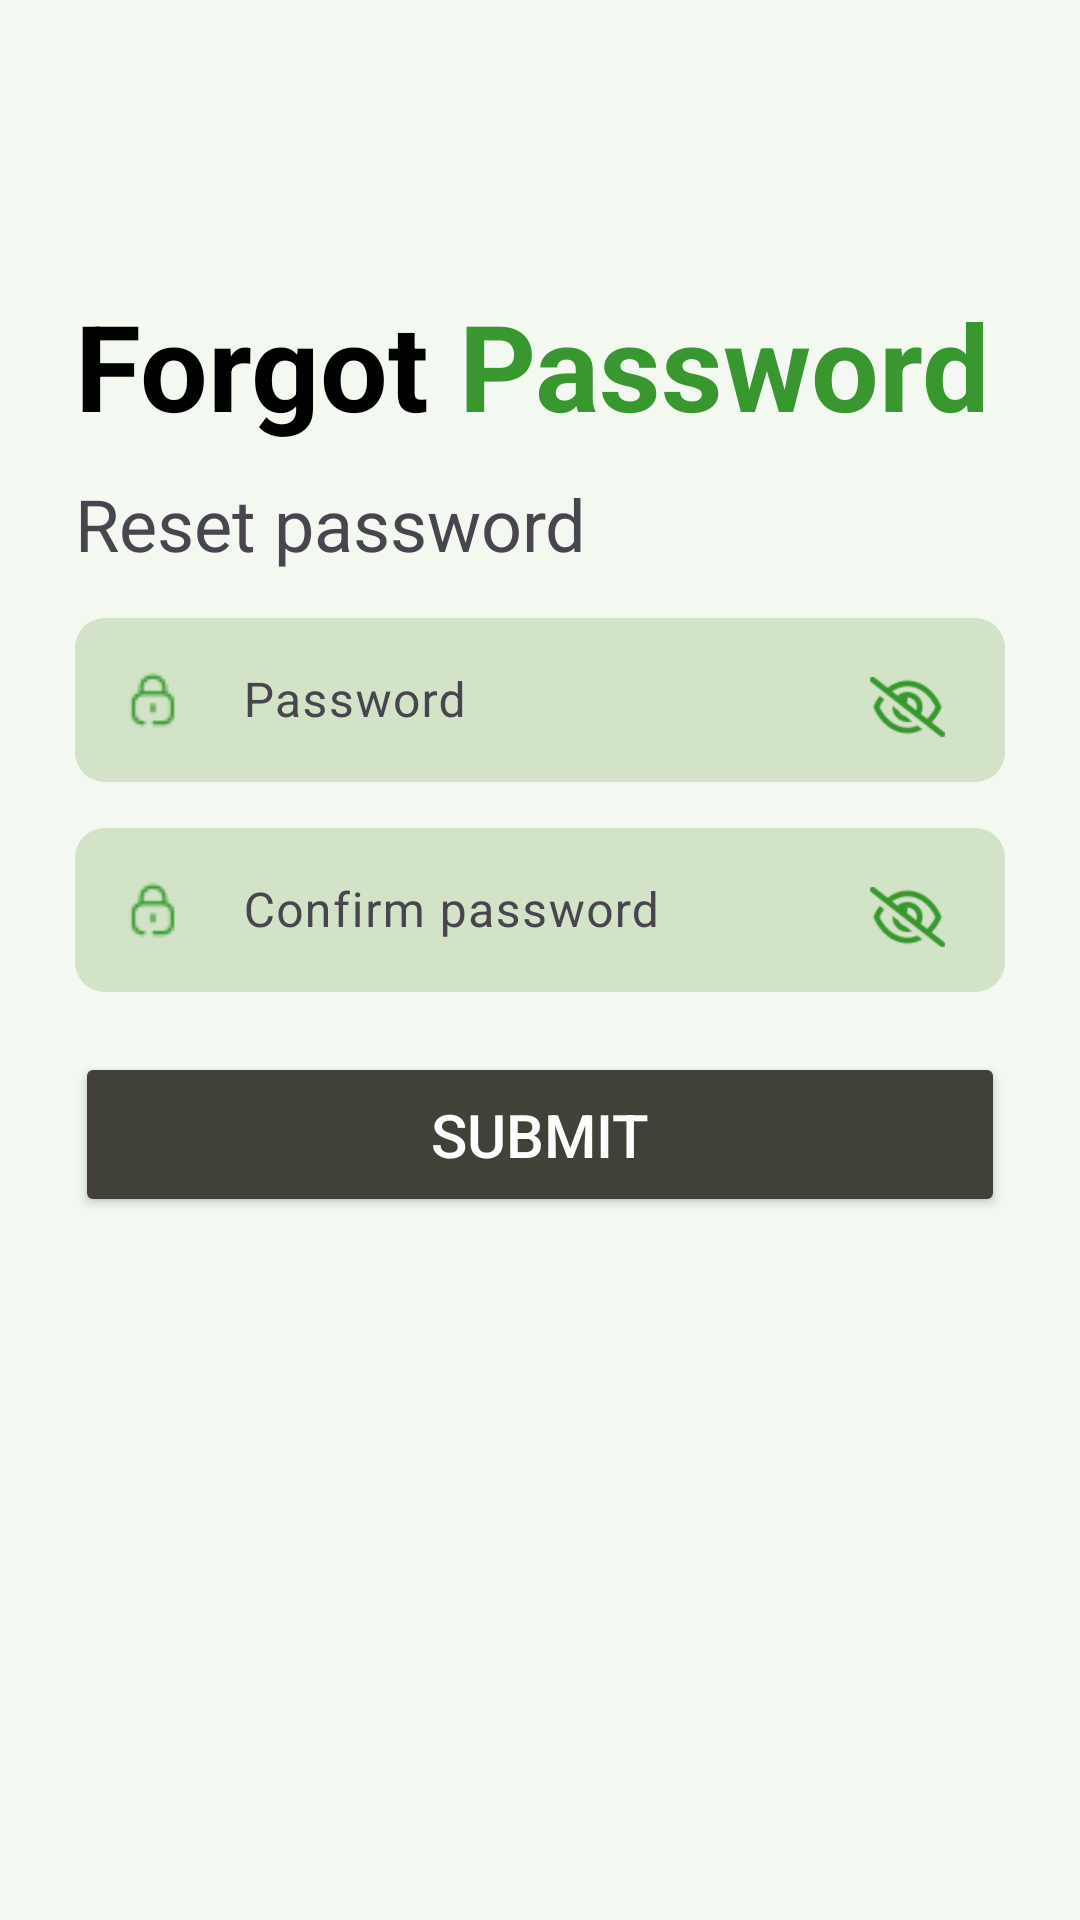

Where to tap for icons on this 1080px×1920px app screen, as (x=x, y=y):
close eye: (x=907, y=707), (x=907, y=917)
